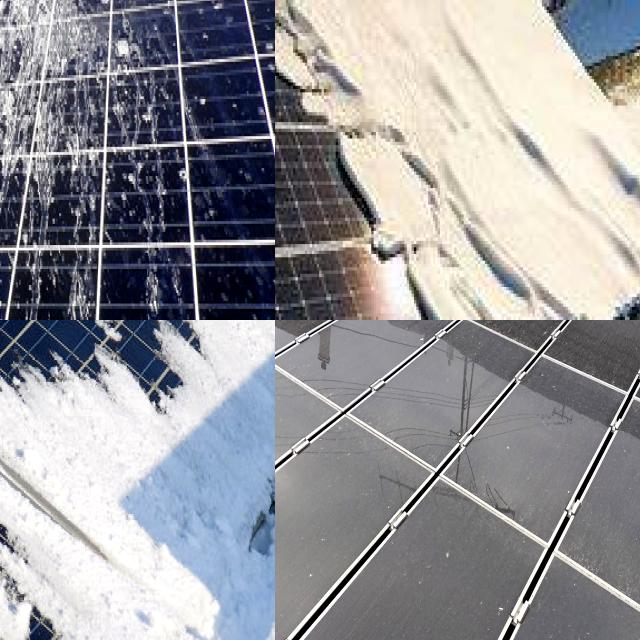bird: (0, 97, 57, 199), (0, 0, 74, 75), (105, 22, 149, 110), (141, 259, 184, 320), (0, 0, 42, 49), (36, 0, 97, 31), (0, 26, 28, 91), (71, 251, 94, 320), (0, 0, 28, 37), (0, 6, 21, 51)
dust: (310, 402, 383, 590), (568, 442, 640, 624), (408, 524, 516, 640), (275, 320, 405, 409), (483, 353, 558, 495), (412, 320, 559, 385), (275, 527, 320, 640), (572, 320, 639, 383), (275, 386, 308, 512)
panel: (0, 320, 175, 473), (42, 518, 220, 640), (278, 72, 416, 228), (41, 320, 184, 441), (371, 232, 537, 320), (0, 451, 76, 640), (0, 382, 86, 547), (275, 0, 350, 118), (95, 320, 233, 376), (0, 543, 58, 640), (162, 320, 269, 366), (0, 343, 67, 410), (590, 207, 640, 287), (533, 284, 640, 320), (134, 320, 233, 356), (0, 320, 45, 356)
